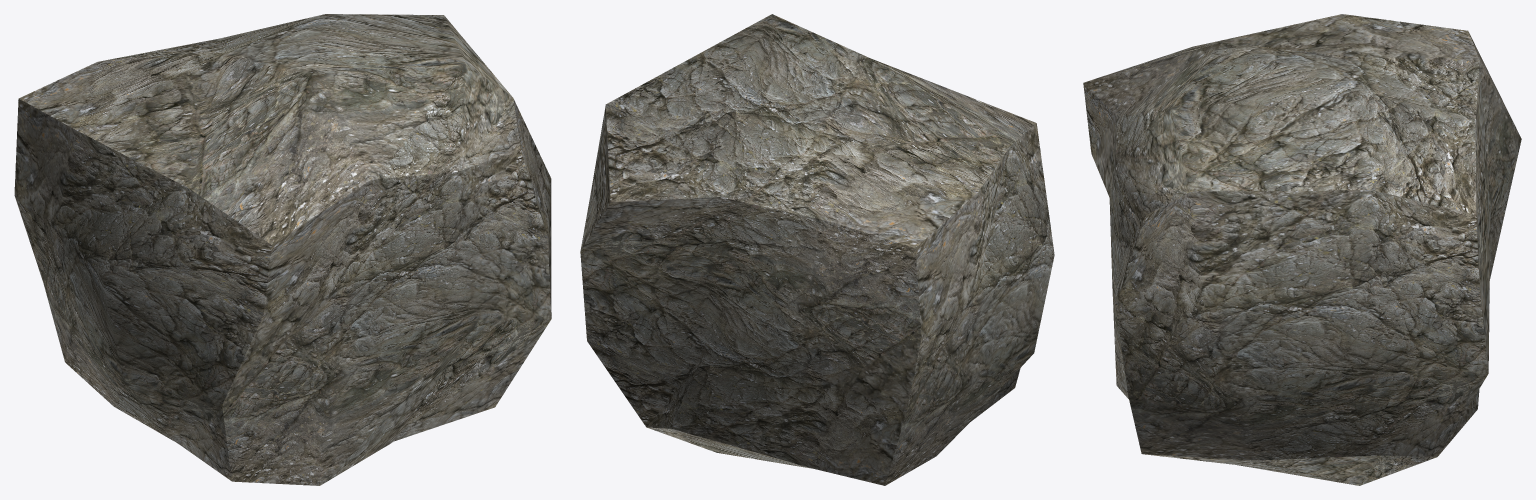
File: Boulder.fbx
The picture shows the model from 3 angles, left to right: view 1: azimuth 30°, elevation 25°; view 2: azimuth 150°, elevation 25°; view 3: azimuth 270°, elevation 25°; orthographic projection. The views are drawn at different scales.
Parts seen in each view (by area): view 1: pCube1; view 2: pCube1; view 3: pCube1.
Part boxes in pixels (x1,y1,x2,y2): pCube1: (14,14,551,485); pCube1: (580,14,1054,485); pCube1: (1083,14,1521,485).
Bounding box in the file's own units: 182 × 160 × 157.
